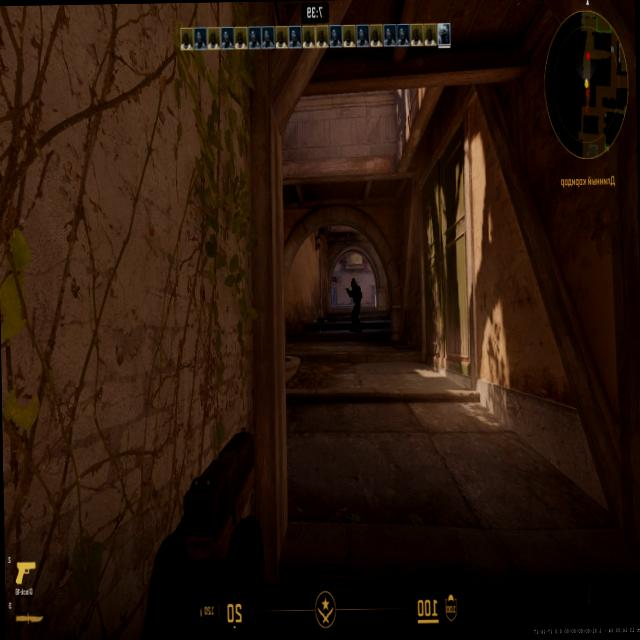CT: (349, 277, 360, 328)
CT_heat: (352, 280, 357, 286)
